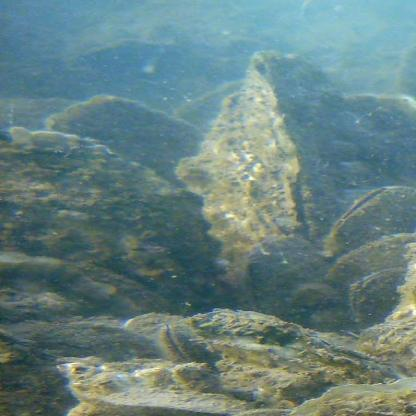3: (321, 186, 415, 260), (349, 265, 406, 329), (158, 323, 208, 365)
Oyster-Closed: (181, 53, 368, 289), (0, 252, 146, 416), (191, 310, 401, 403), (104, 387, 249, 416), (329, 235, 416, 283)
Oyster-Open: (0, 127, 257, 314), (46, 95, 208, 207), (251, 239, 361, 337), (362, 242, 416, 375), (347, 94, 416, 196), (291, 378, 416, 416), (172, 81, 240, 132)
